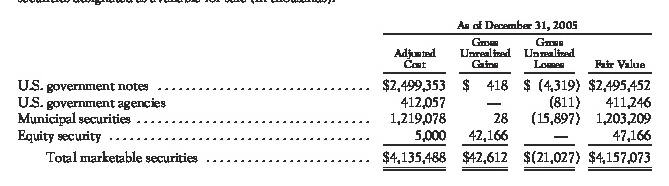table: (0, 0, 669, 186)
